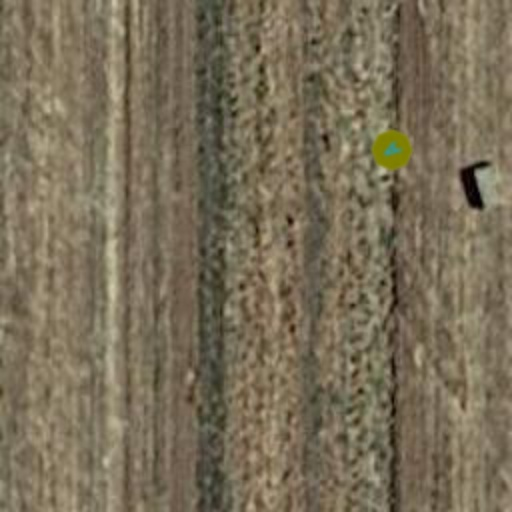octagon: (362, 120, 422, 180)
